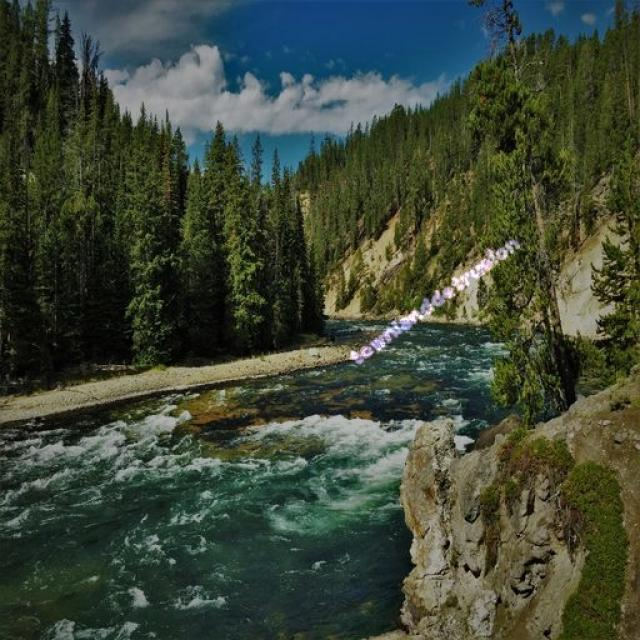watermark: (349, 229, 522, 369)
